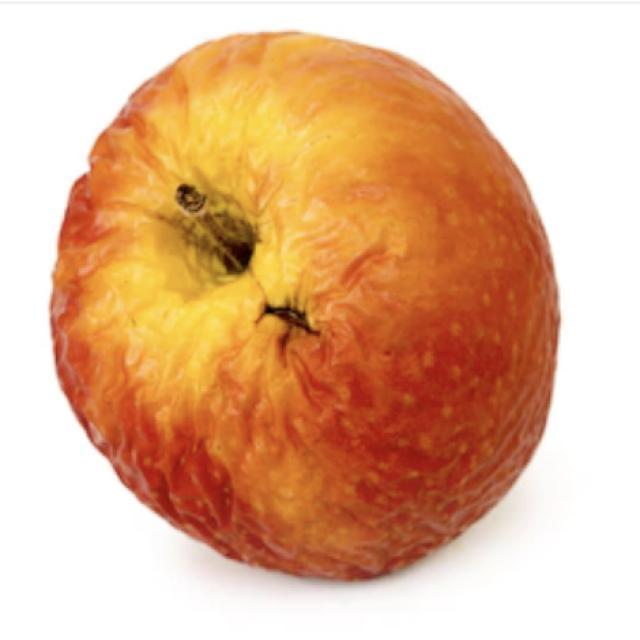Rotten: (50, 25, 568, 583)
